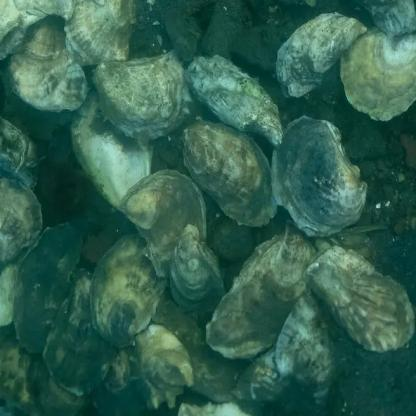Oyster-Closed: (205, 221, 316, 359), (305, 239, 415, 352), (272, 117, 367, 235), (70, 90, 153, 215), (182, 121, 277, 225), (43, 268, 116, 396), (13, 224, 84, 354), (120, 171, 206, 278), (93, 49, 193, 141), (185, 55, 284, 147), (90, 234, 170, 346), (150, 312, 244, 403), (8, 17, 89, 112), (277, 13, 368, 97), (341, 26, 416, 119), (277, 293, 338, 406), (124, 324, 194, 410), (170, 223, 225, 310), (64, 0, 137, 65), (0, 178, 43, 268), (0, 241, 37, 327), (235, 346, 288, 403), (0, 116, 39, 188), (366, 0, 416, 36), (105, 346, 131, 392), (177, 403, 252, 416)
